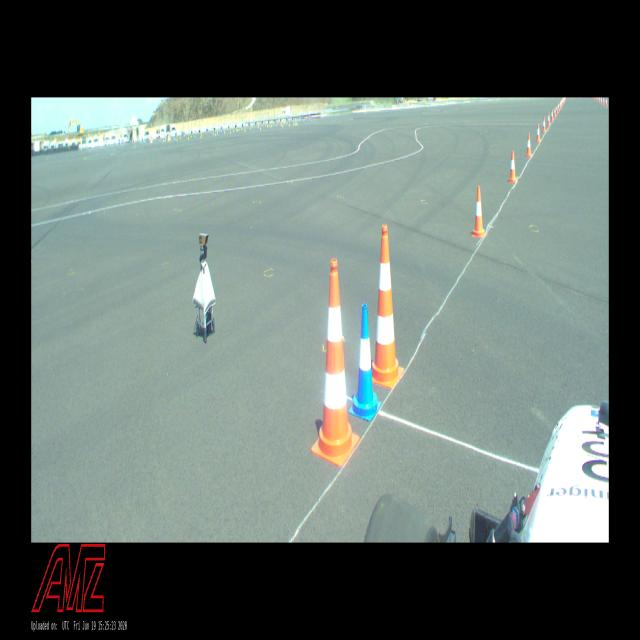blue_cone: (349, 304, 382, 421), (210, 129, 212, 135), (220, 128, 222, 134), (144, 139, 146, 144), (184, 134, 186, 138), (194, 134, 196, 138), (314, 119, 316, 123), (174, 136, 175, 142), (217, 130, 218, 136), (219, 128, 220, 134), (166, 136, 167, 140), (283, 120, 284, 124), (227, 128, 228, 132), (160, 138, 160, 142), (238, 129, 238, 133), (250, 126, 250, 132), (258, 125, 258, 130), (292, 119, 292, 123), (304, 119, 304, 123), (299, 118, 299, 122), (248, 124, 248, 128), (276, 124, 276, 128), (287, 121, 287, 125), (300, 119, 300, 122), (312, 120, 312, 124)
large_orange_cone: (301, 264, 349, 471), (372, 225, 404, 388), (151, 136, 153, 144), (150, 136, 151, 144), (168, 134, 169, 141), (169, 134, 170, 141)
orange_cone: (473, 186, 485, 236), (508, 151, 516, 182), (526, 134, 532, 156), (536, 124, 541, 142), (542, 117, 546, 132), (547, 113, 551, 126), (551, 109, 554, 121), (606, 97, 608, 106), (556, 105, 558, 114), (554, 107, 556, 116), (559, 101, 561, 110), (602, 97, 604, 104), (558, 102, 559, 111), (564, 97, 566, 101), (563, 97, 564, 104), (599, 97, 600, 101), (601, 98, 602, 102), (562, 99, 562, 106), (598, 97, 598, 101)
yellow_cone: (296, 118, 298, 125), (200, 132, 202, 138), (282, 122, 284, 128), (176, 135, 178, 140), (244, 126, 246, 131), (190, 134, 192, 138), (262, 122, 264, 126), (295, 118, 296, 125), (233, 126, 234, 132), (267, 122, 268, 128), (281, 120, 282, 126), (230, 129, 231, 133), (213, 130, 214, 134), (260, 126, 261, 130), (280, 120, 281, 124), (289, 122, 290, 126), (163, 138, 164, 142), (188, 135, 189, 139), (284, 120, 285, 124), (265, 122, 266, 126), (180, 136, 181, 139), (239, 127, 240, 130), (273, 122, 274, 125), (216, 130, 216, 136), (270, 122, 270, 126), (272, 122, 272, 127), (171, 136, 171, 140), (294, 120, 294, 126), (202, 132, 202, 136), (225, 130, 225, 134), (278, 121, 278, 125), (286, 120, 286, 124), (252, 125, 252, 128), (242, 127, 242, 130)
